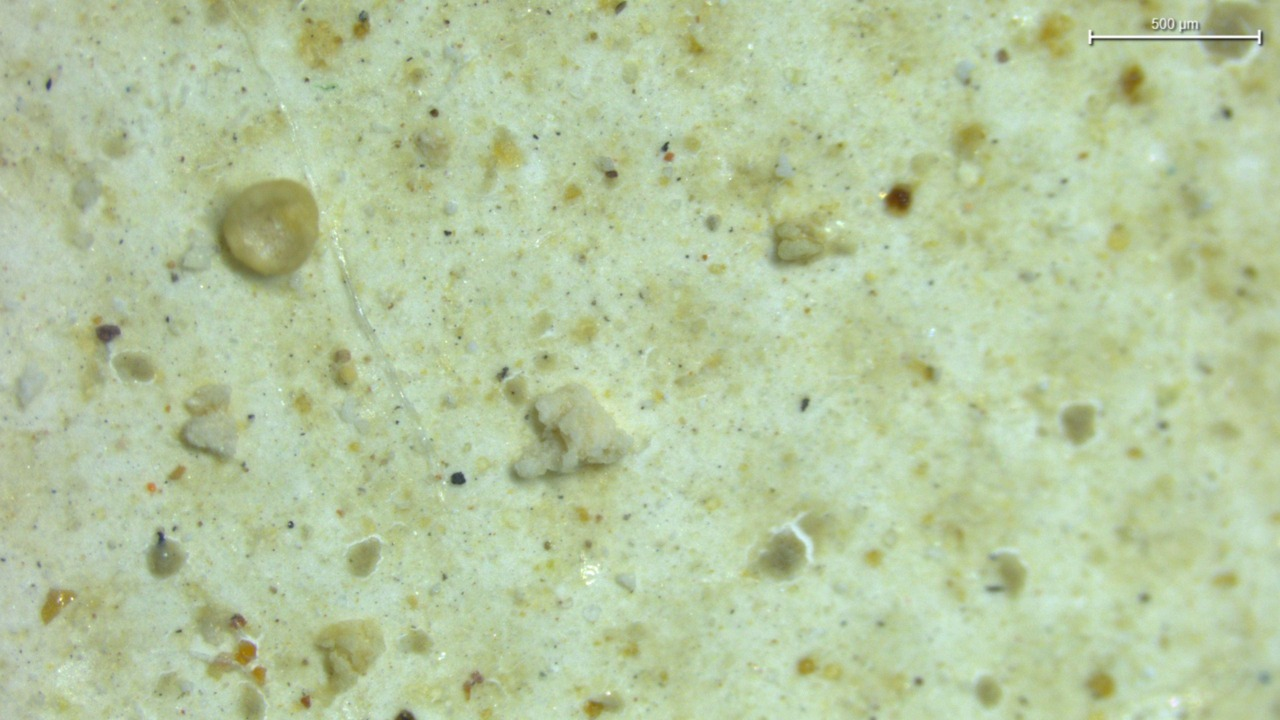microplastic_fragment: (514, 384, 632, 478), (221, 179, 319, 275), (180, 385, 238, 457), (775, 223, 824, 262), (339, 398, 369, 434)
